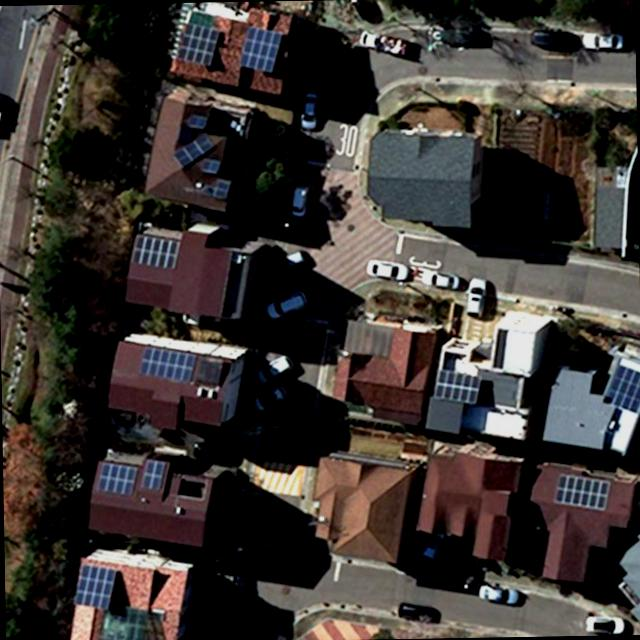solar: (237, 24, 285, 76), (552, 472, 612, 513), (138, 344, 198, 385), (598, 357, 640, 414), (71, 562, 120, 610), (175, 20, 222, 70), (128, 232, 182, 272), (168, 130, 215, 170), (432, 369, 482, 405), (93, 460, 138, 498), (140, 457, 167, 491), (200, 176, 232, 202), (186, 112, 210, 130), (200, 158, 222, 175)
